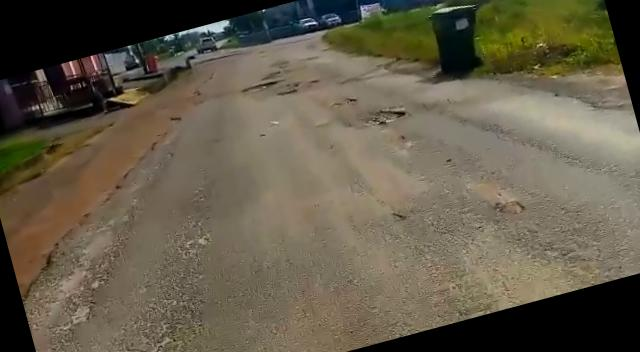pothole: (348, 100, 412, 134), (242, 76, 280, 94), (274, 86, 298, 100)
